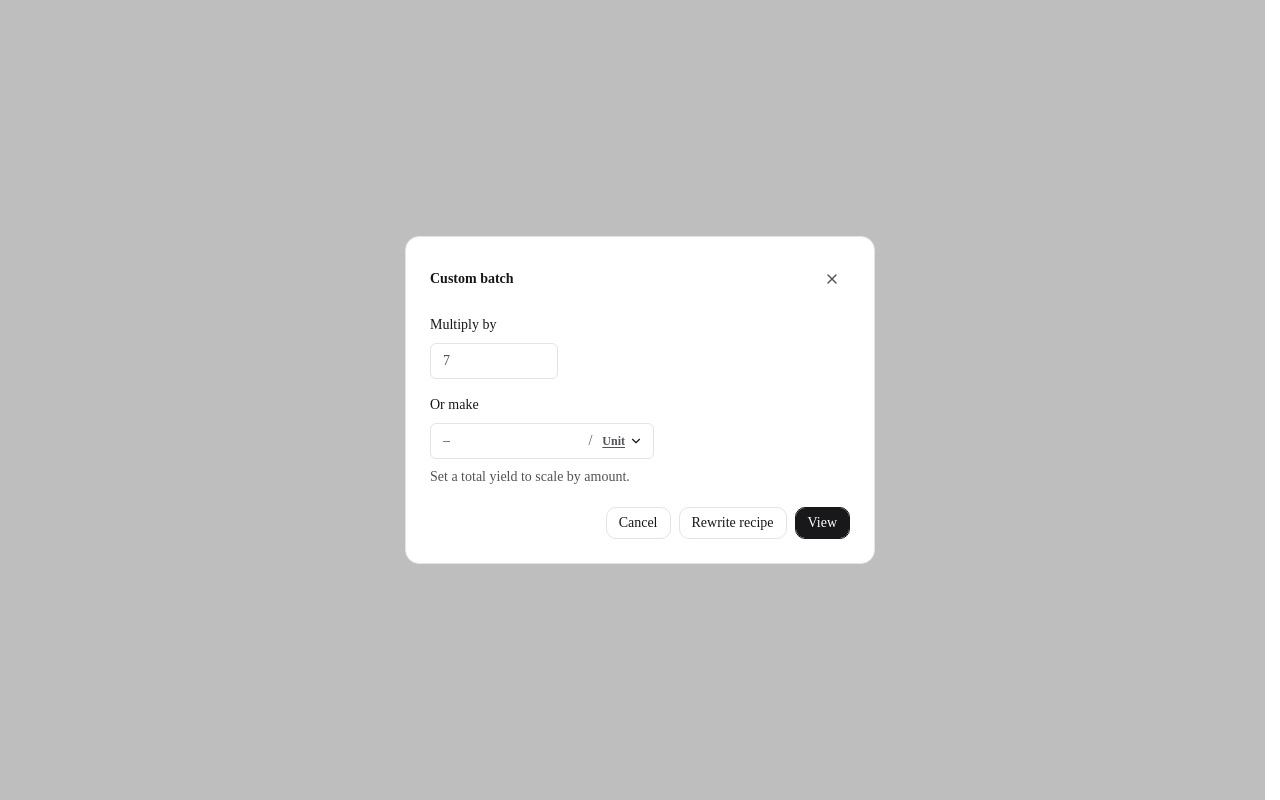
Scenario: the custom batch dialog's buttons › asks for a multiplier instead of viewing
This screenshot has width=1280, height=800.
Click the button "View": (822, 523) [794,507,850,539]
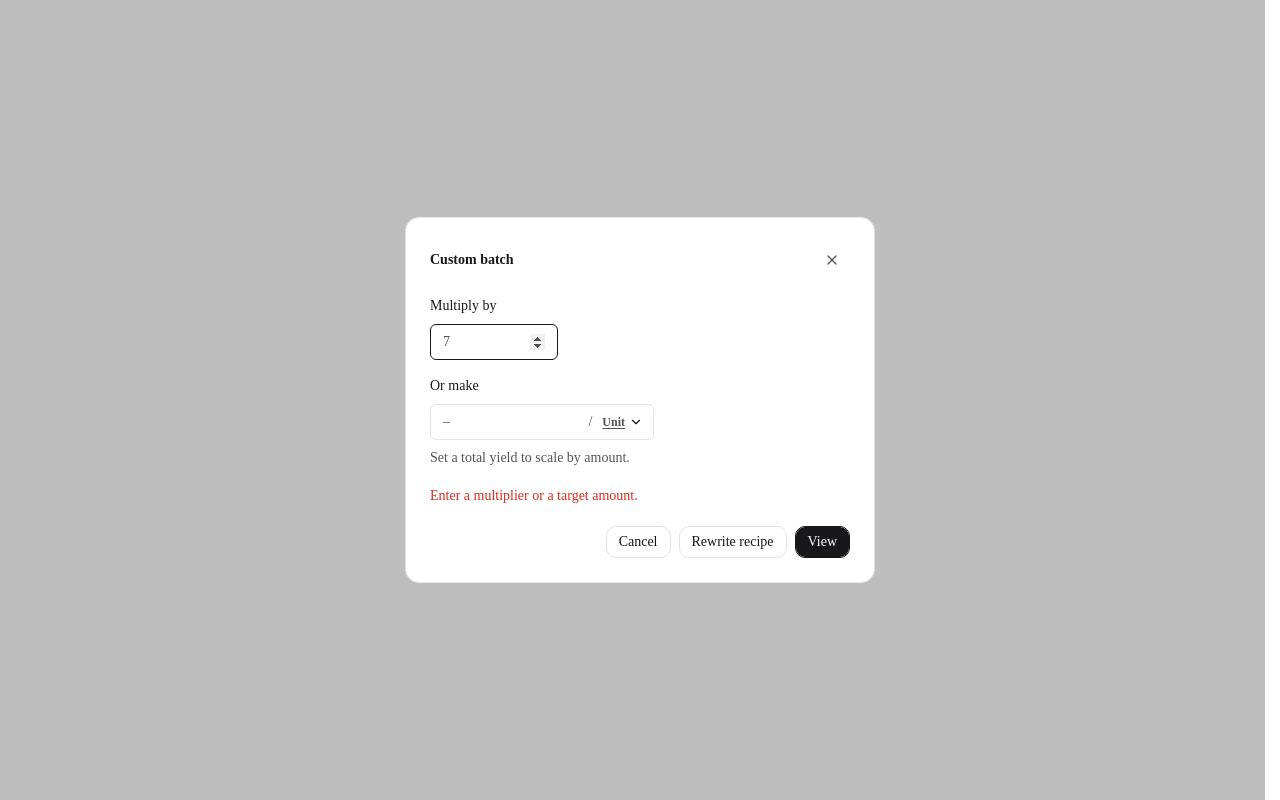
Expected: the message reads "Enter a multiplier or a target amount.", [430,488,638,503]
